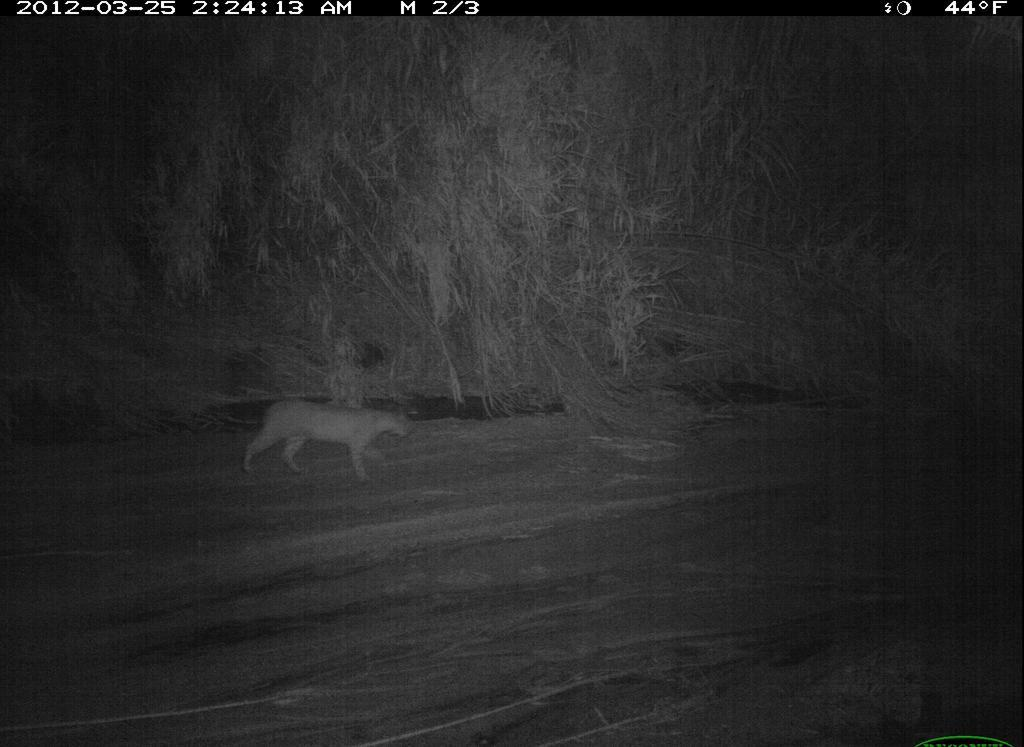bobcat: (232, 388, 429, 495)
